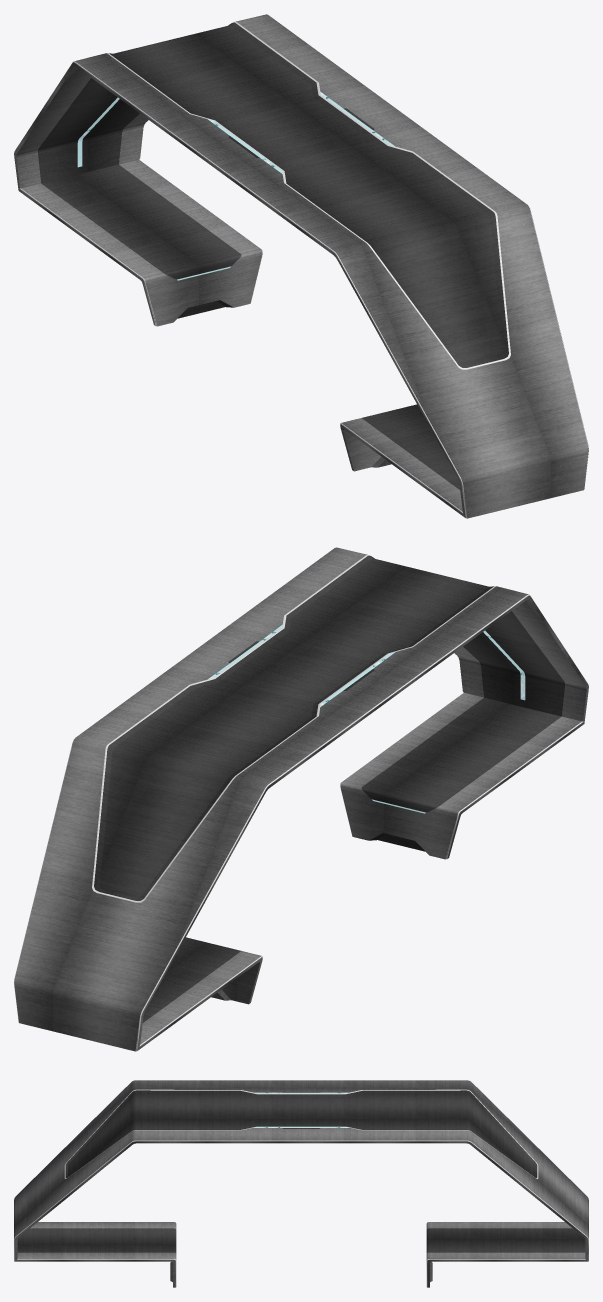
The model's file is propBusStop.glb.
The picture shows the model from 3 angles, top to bottom: view 1: azimuth 30°, elevation 25°; view 2: azimuth 150°, elevation 25°; view 3: azimuth 270°, elevation 25°; orthographic projection. The views are drawn at different scales.
Parts seen in each view (by area): view 1: propBusStop, PF_BusStop.001_M_Base_Black.018_0, PF_BusStop.001_M_BusStop_EdgeHighlights_0, PF_BusStop.001_M_Emissive_Engineering.017_0; view 2: propBusStop, PF_BusStop.001_M_Base_Black.018_0, PF_BusStop.001_M_BusStop_EdgeHighlights_0, PF_BusStop.001_M_Emissive_Engineering.017_0; view 3: PF_BusStop.001_M_Base_Black.018_0, propBusStop, PF_BusStop.001_M_BusStop_EdgeHighlights_0.
Boxes of the visible parts, x1,y1,x2,y2 form: propBusStop: (14,14,588,518); PF_BusStop.001_M_Base_Black.018_0: (38,22,508,489); PF_BusStop.001_M_BusStop_EdgeHighlights_0: (15,21,588,518); PF_BusStop.001_M_Emissive_Engineering.017_0: (77,92,394,280); propBusStop: (14,547,588,1051); PF_BusStop.001_M_Base_Black.018_0: (94,555,564,1022); PF_BusStop.001_M_BusStop_EdgeHighlights_0: (14,555,587,1051); PF_BusStop.001_M_Emissive_Engineering.017_0: (208,625,525,813); PF_BusStop.001_M_Base_Black.018_0: (17,1090,585,1252); propBusStop: (14,1080,588,1287); PF_BusStop.001_M_BusStop_EdgeHighlights_0: (14,1089,588,1287).
Bounding box in the file's own units: 2.3 × 2.87 × 9.2.
4 materials, 3 textured.
